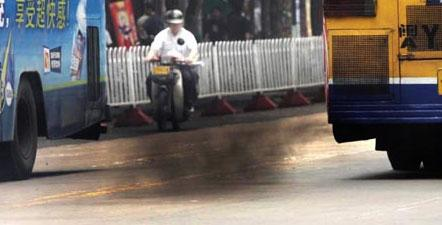smoke: (128, 106, 321, 192)
